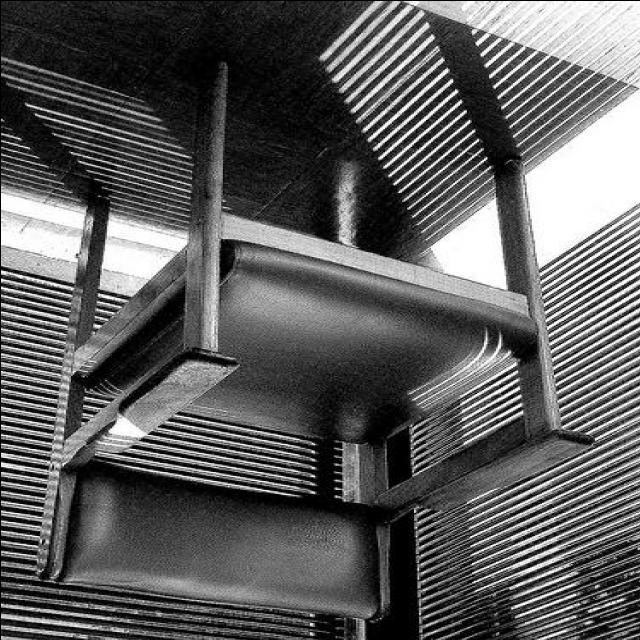chair: (24, 52, 588, 620)
